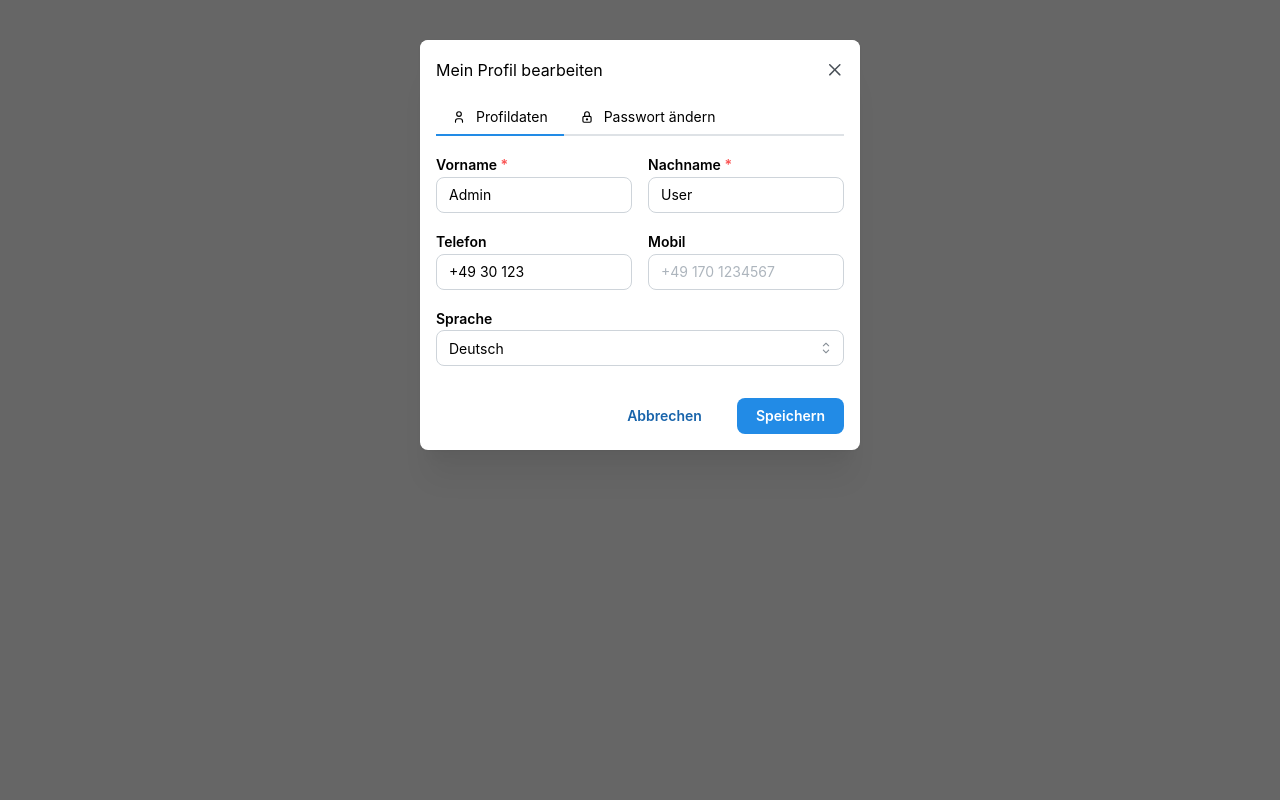
EditProfileModal › zeigt die Backend-Meldung, wenn das Speichern fehlschlägt
Step 1. Click the button "Speichern" → (790, 416), box x1=737 y1=398 x2=844 y2=434
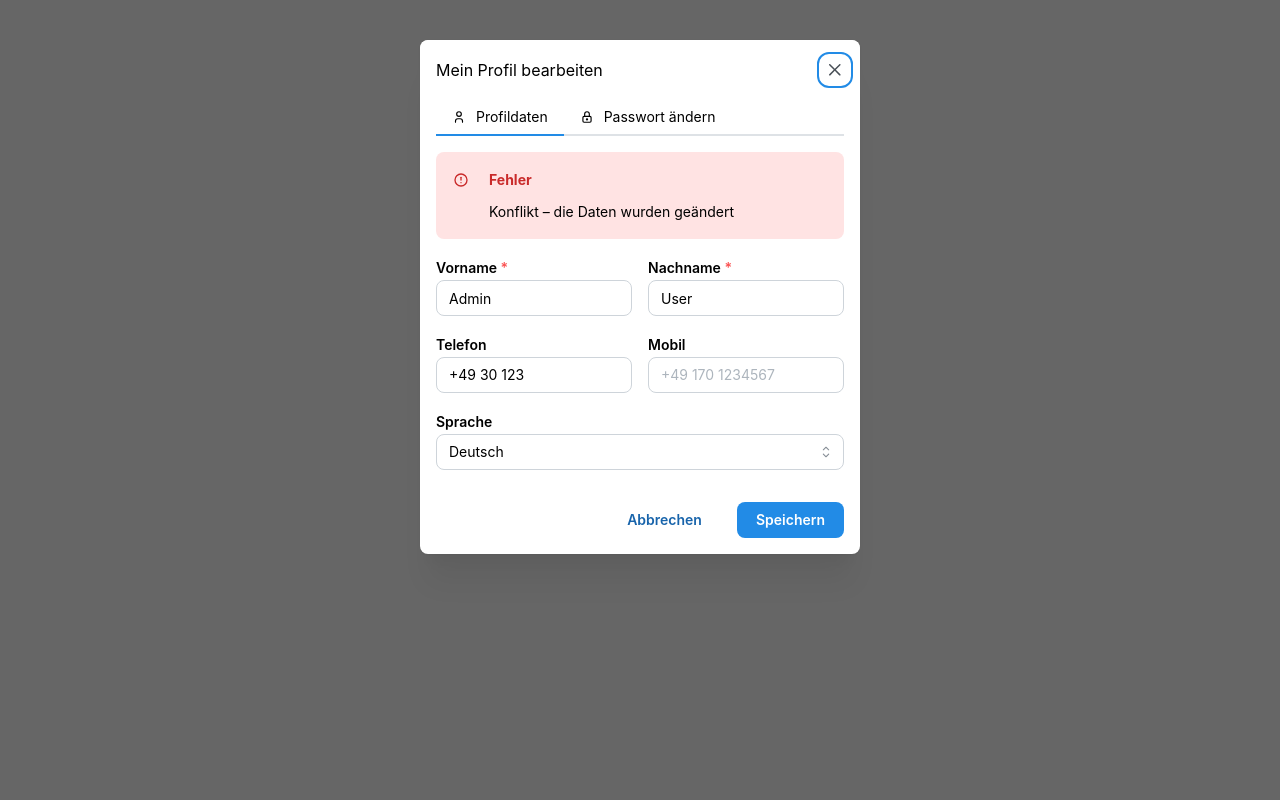
Check: the text "Konflikt – die Daten wurden geändert" is shown, box x1=489 y1=203 x2=734 y2=220
